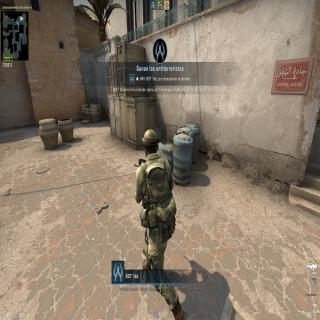CT-Head: (142, 127, 159, 158)
